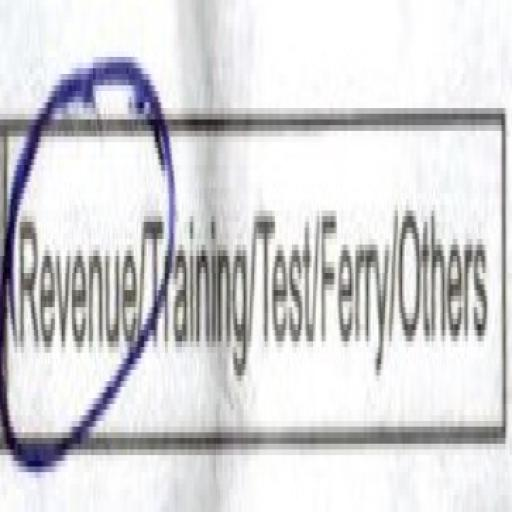check: (0, 32, 140, 512)
